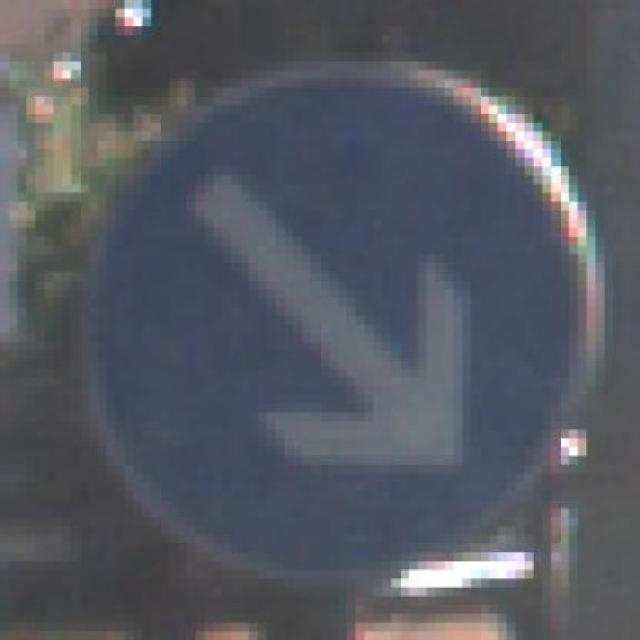Keep-Right: (62, 61, 613, 596)
